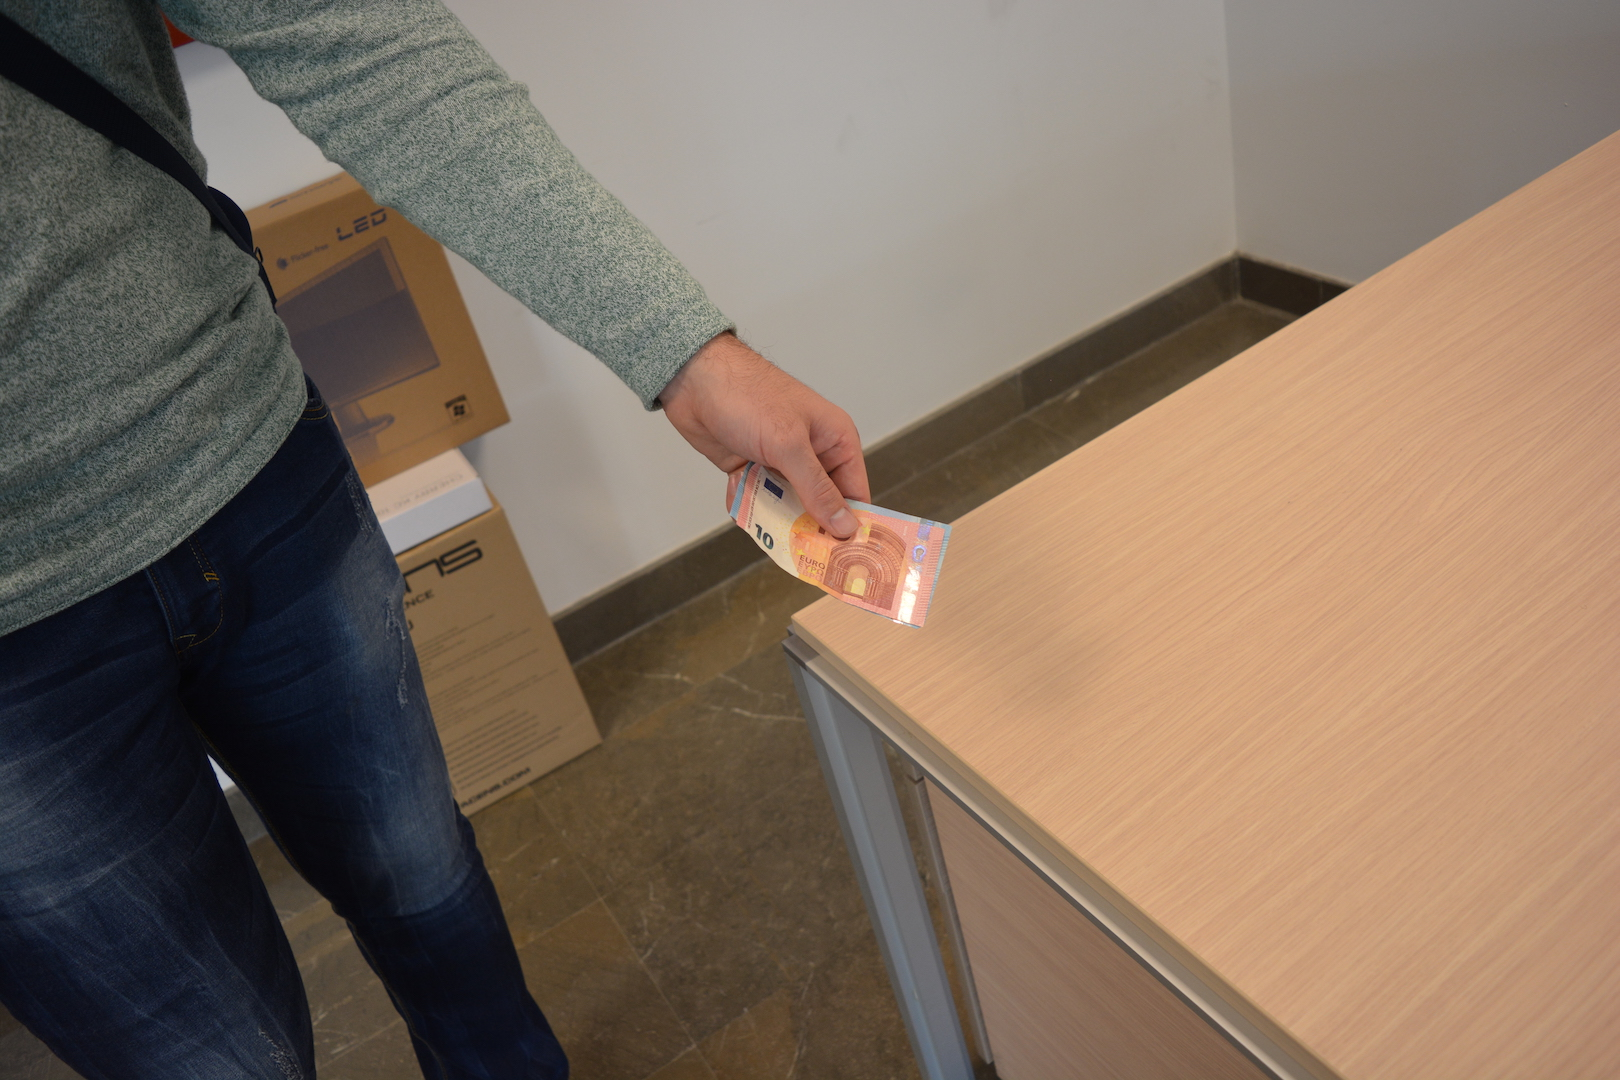billete: (727, 459, 953, 630)
